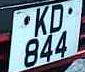4: (39, 31, 54, 67), (55, 31, 68, 58)
8: (21, 37, 41, 69)
D: (49, 3, 65, 35)
K: (33, 6, 48, 38)
